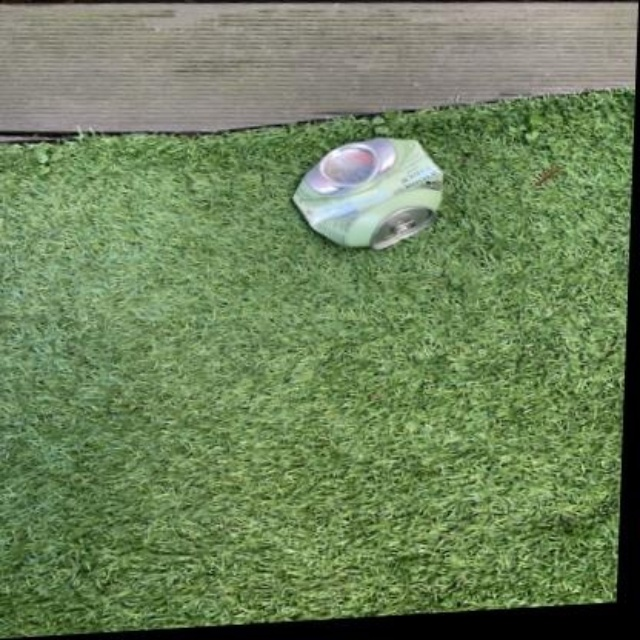trash: (294, 138, 442, 248)
